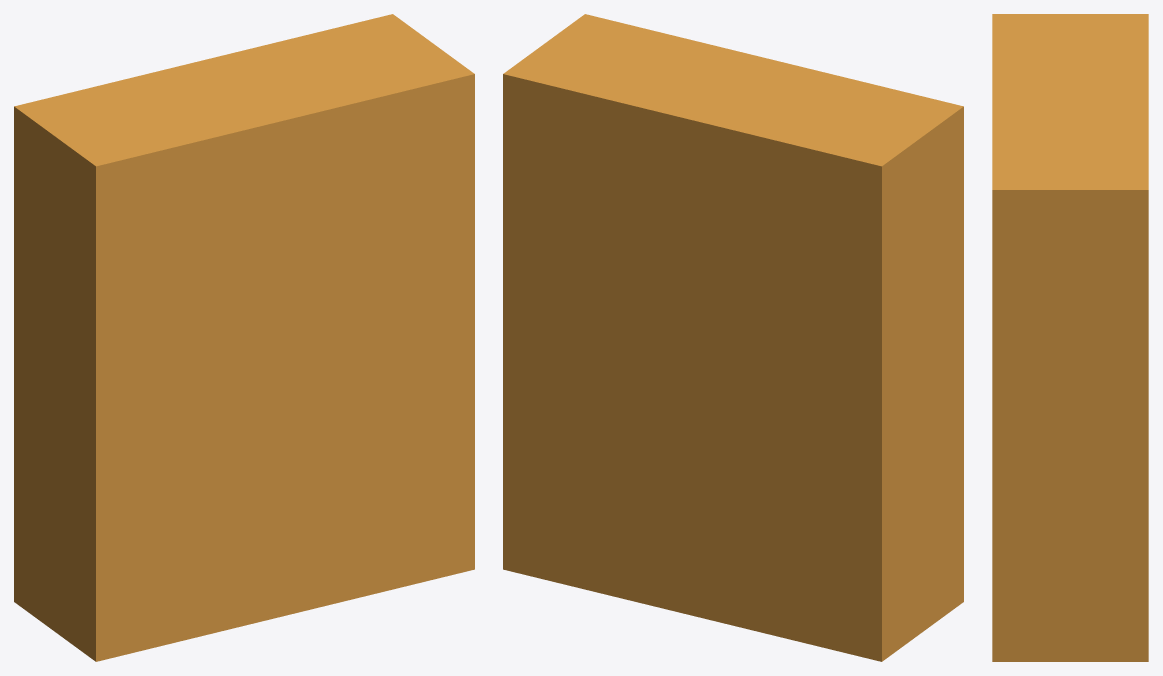
File: kids-bookshelf-01.glb
3 renders of one model, left to right at view 1: azimuth 30°, elevation 25°; view 2: azimuth 150°, elevation 25°; view 3: azimuth 270°, elevation 25°, orthographic. The views are drawn at different scales.
Size of the model in its own units: 0.8 by 1 by 0.3.
